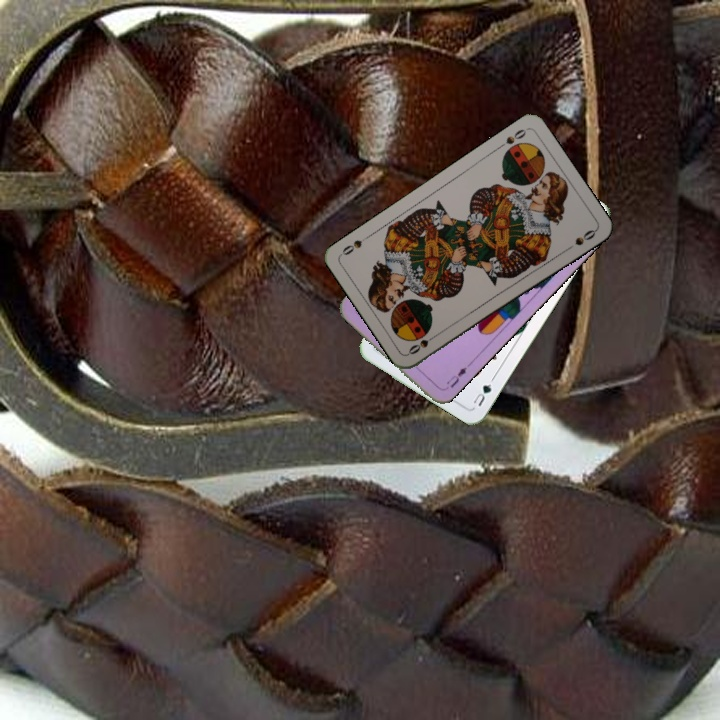EU: (439, 361, 472, 393)
GU: (469, 374, 497, 409)
SO: (404, 329, 441, 357), (494, 125, 530, 152)
